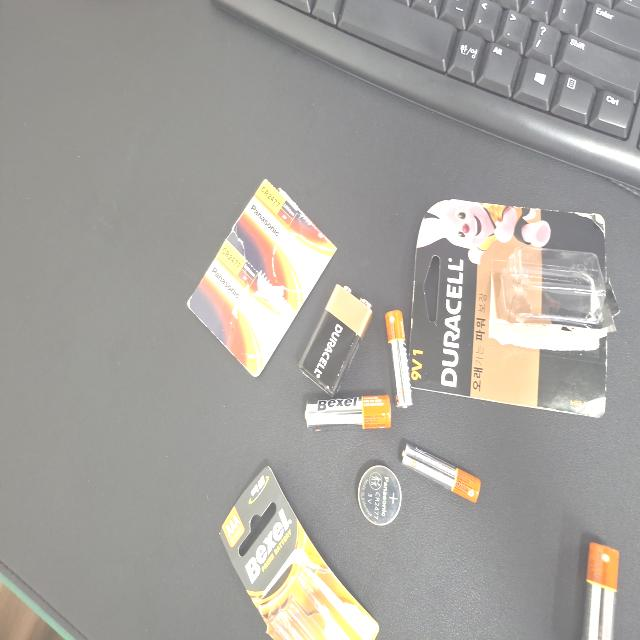9V: (184, 398, 266, 496)
AA: (157, 407, 183, 521)
AAA: (103, 536, 147, 640), (174, 514, 248, 550)
COIN: (86, 477, 130, 535)
